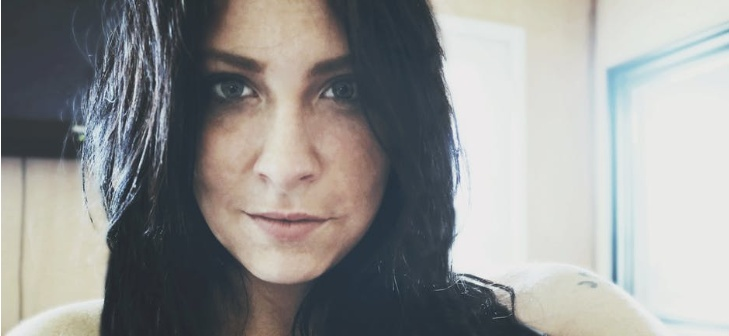face: (192, 1, 388, 279)
